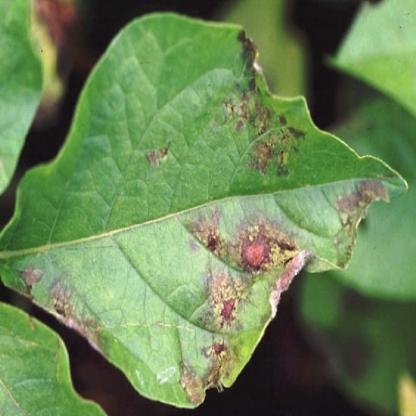tomato early blight leaf: (2, 9, 410, 415)
